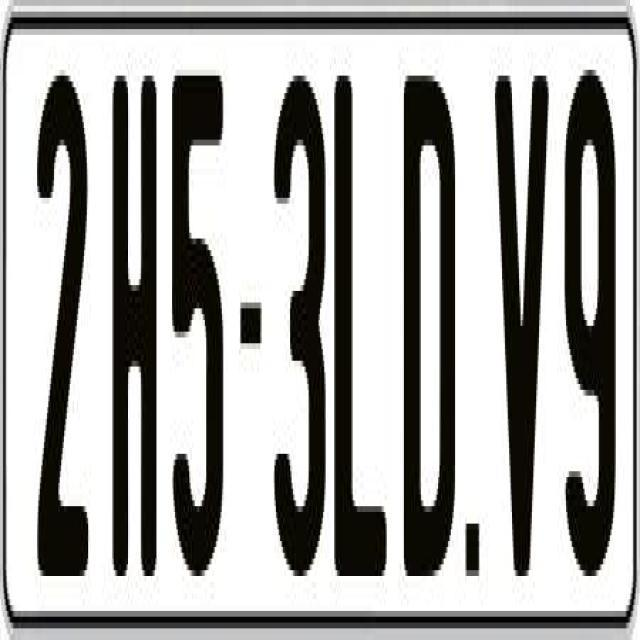2: (36, 70, 92, 588)
3: (274, 76, 334, 576)
5: (172, 64, 223, 570)
9: (562, 58, 614, 594)
D: (401, 58, 457, 564)
H: (110, 70, 160, 594)
L: (334, 64, 391, 576)
V: (490, 63, 548, 564)
